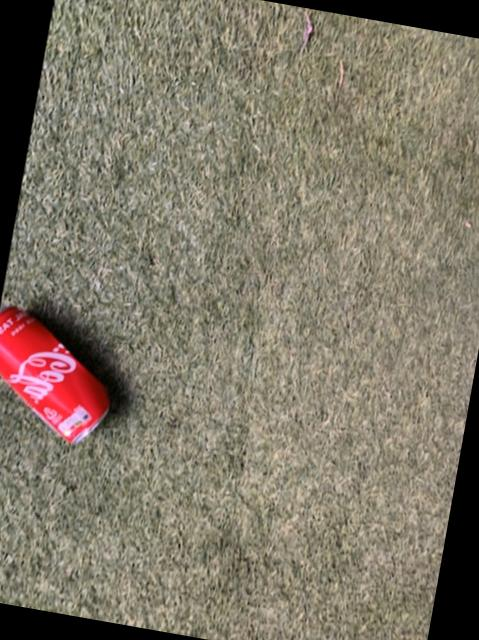metal: (0, 305, 110, 440)
